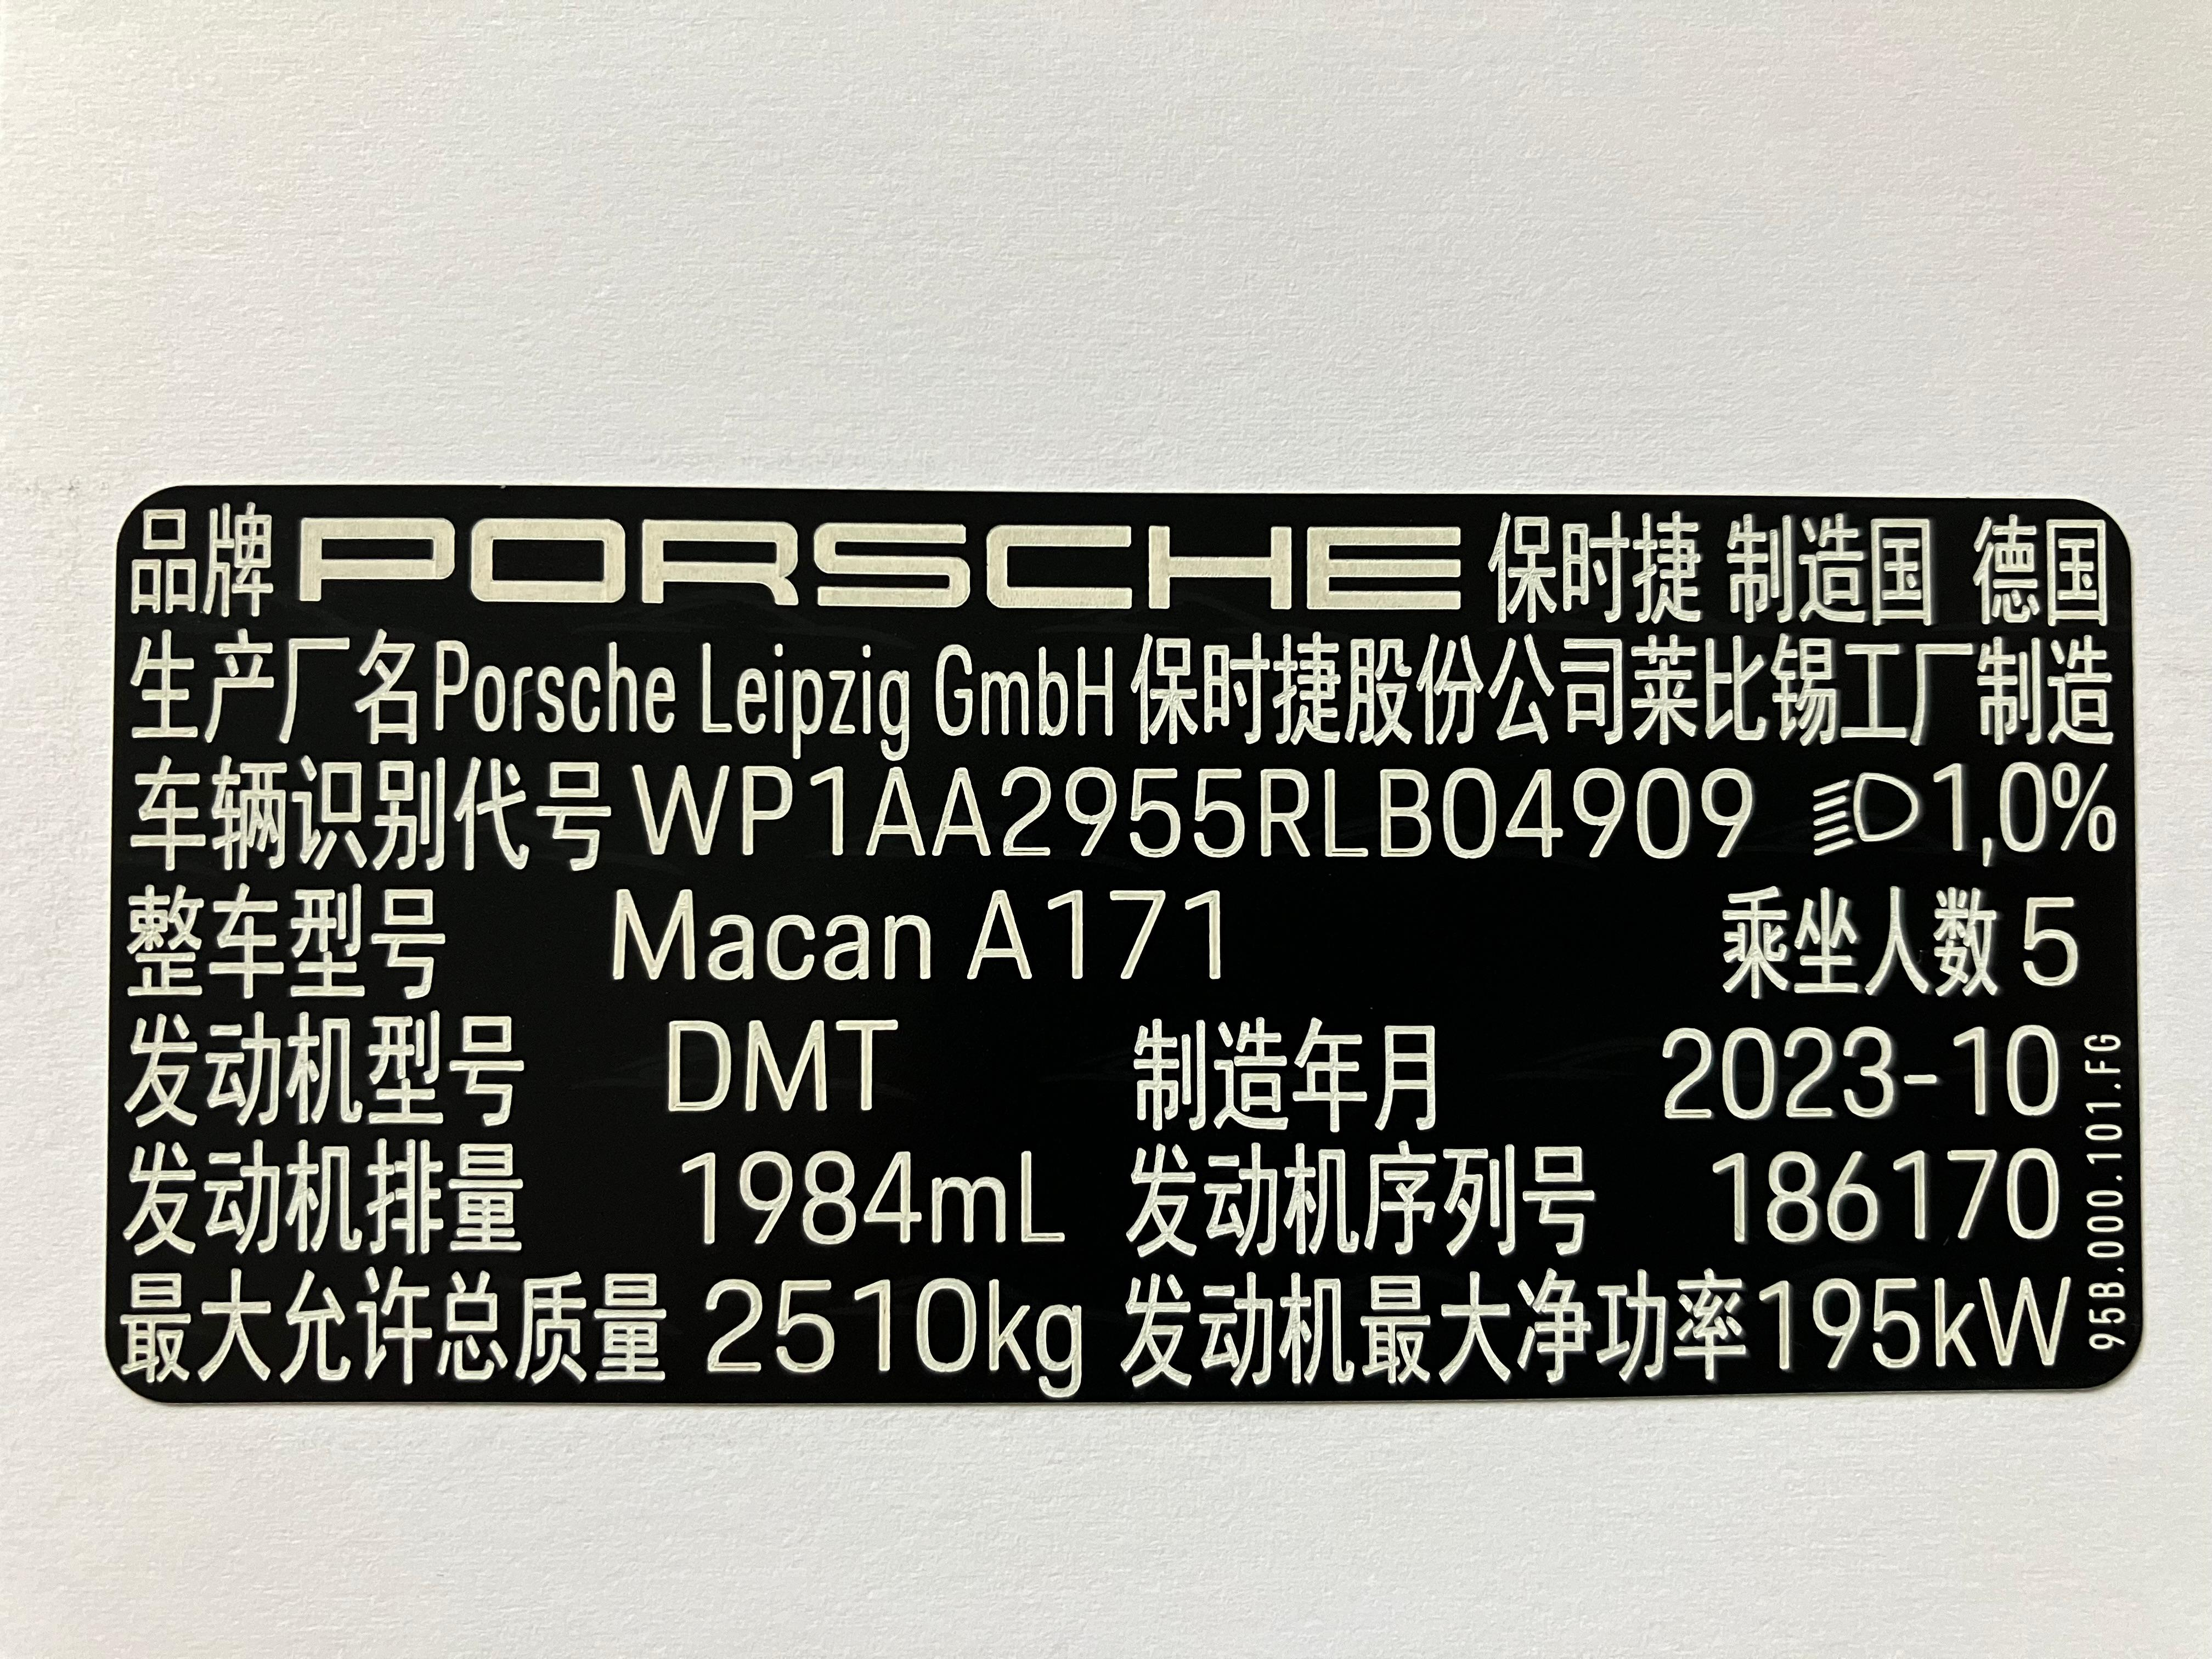Typlabel-China: (105, 486, 2144, 1403)
